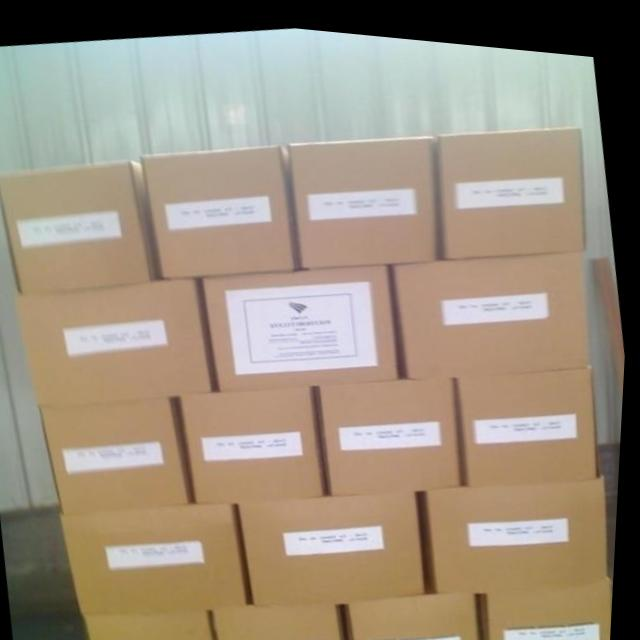box: (389, 238, 593, 369), (19, 272, 221, 404), (203, 255, 403, 386), (240, 482, 436, 600), (423, 464, 617, 583), (64, 496, 259, 613), (0, 156, 163, 294), (142, 139, 301, 275), (288, 127, 441, 263), (439, 116, 586, 249), (43, 391, 198, 512), (319, 365, 469, 489), (457, 353, 606, 477), (181, 380, 333, 497), (485, 569, 618, 640), (349, 579, 491, 640), (216, 591, 355, 640), (89, 604, 223, 640)
